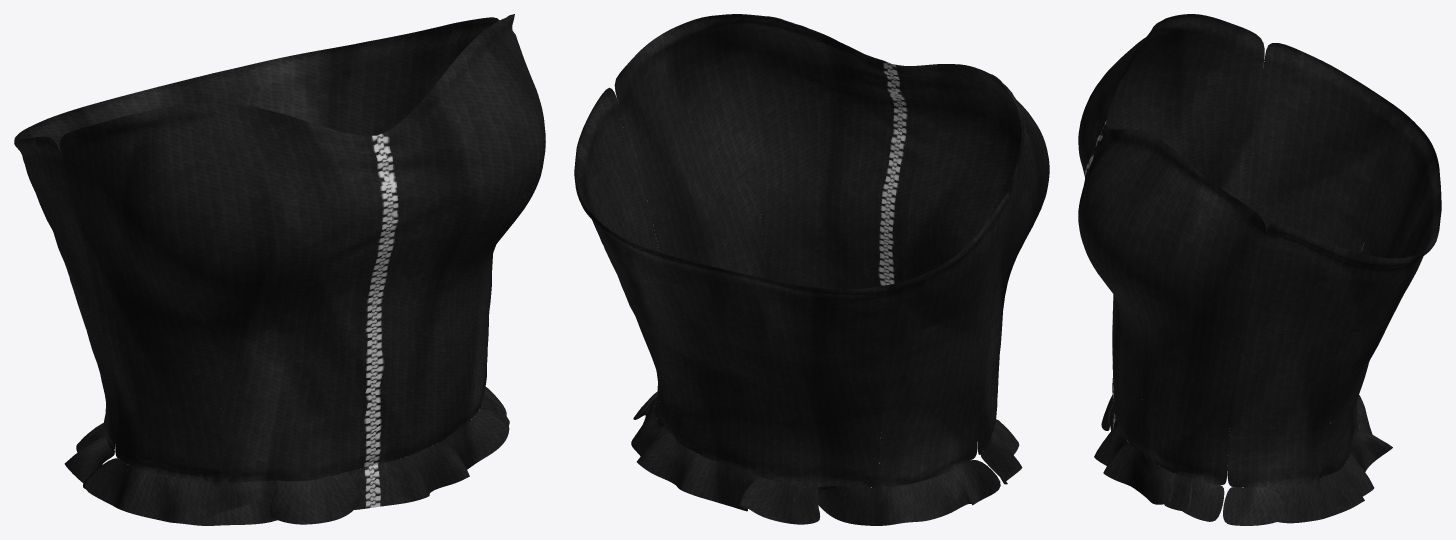
Rendered from top01.glb.
The picture shows the model from 3 angles, left to right: view 1: azimuth 30°, elevation 25°; view 2: azimuth 150°, elevation 25°; view 3: azimuth 270°, elevation 25°; orthographic projection. The views are drawn at different scales.
Parts seen in each view (by area): view 1: Object_2.003; view 2: Object_2.003; view 3: Object_2.003.
Part boxes in pixels (left/top/right/bottom): Object_2.003: left=14, top=14, right=545, bottom=525; Object_2.003: left=574, top=14, right=1049, bottom=525; Object_2.003: left=1078, top=14, right=1441, bottom=525.
Size of the model in its own units: 0.3631 by 0.3385 by 0.2924.
1 material, 1 textured.
